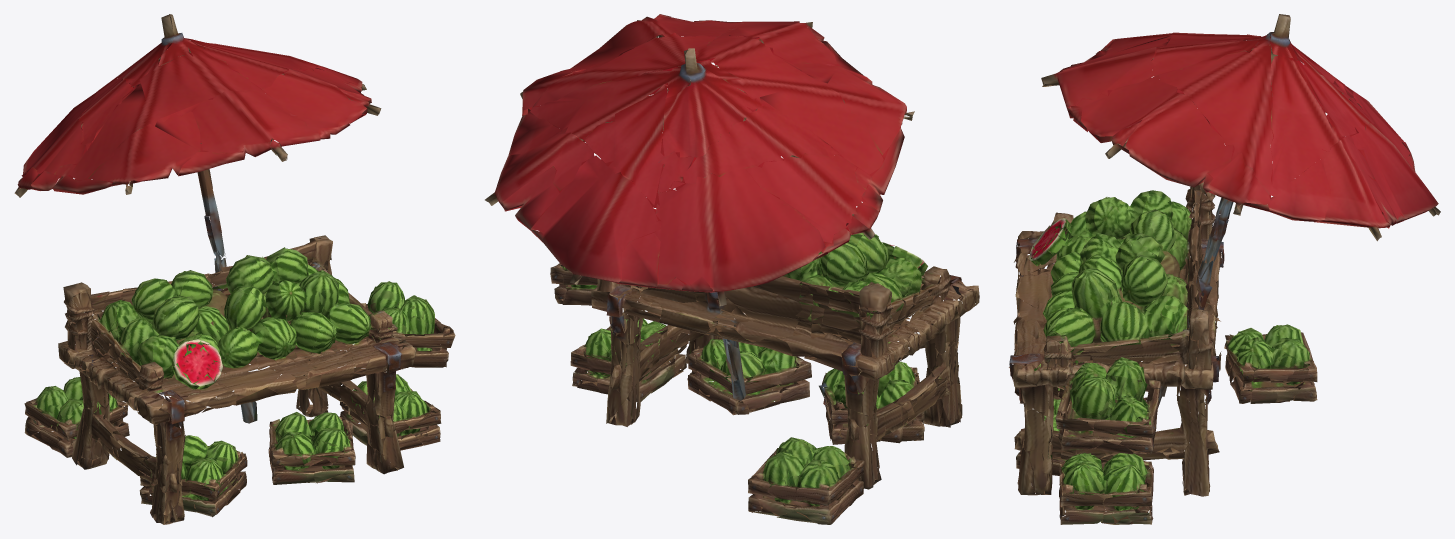
Rendered from MelonStall.fbx.
The picture shows the model from 3 angles, left to right: view 1: azimuth 30°, elevation 25°; view 2: azimuth 150°, elevation 25°; view 3: azimuth 270°, elevation 25°; orthographic projection. The views are drawn at different scales.
Visible parts, largest first — view 1: MelonStall.010; view 2: MelonStall.010; view 3: MelonStall.010.
Part boxes in pixels (box(x1,y1,x2,y2)): MelonStall.010: box(14, 14, 455, 524); MelonStall.010: box(485, 14, 979, 524); MelonStall.010: box(1009, 14, 1440, 524).
Bounding box in the file's own units: 2.32 × 2.5 × 2.32.
1 material, 1 textured.
